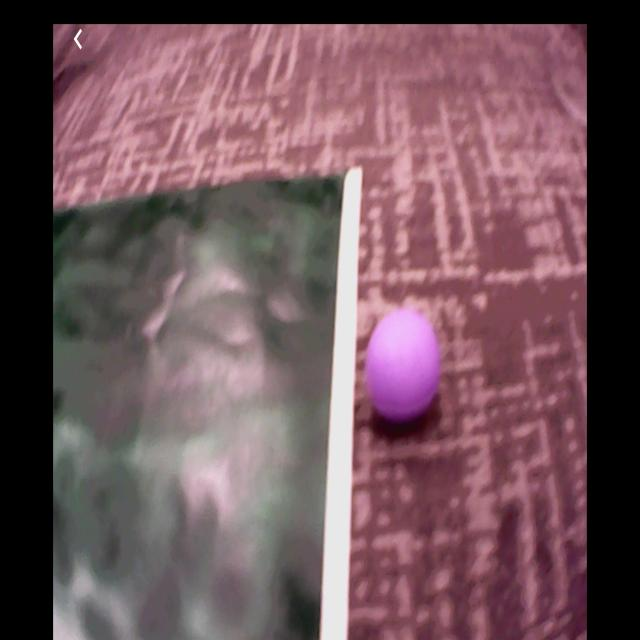ball: (367, 310, 440, 421)
